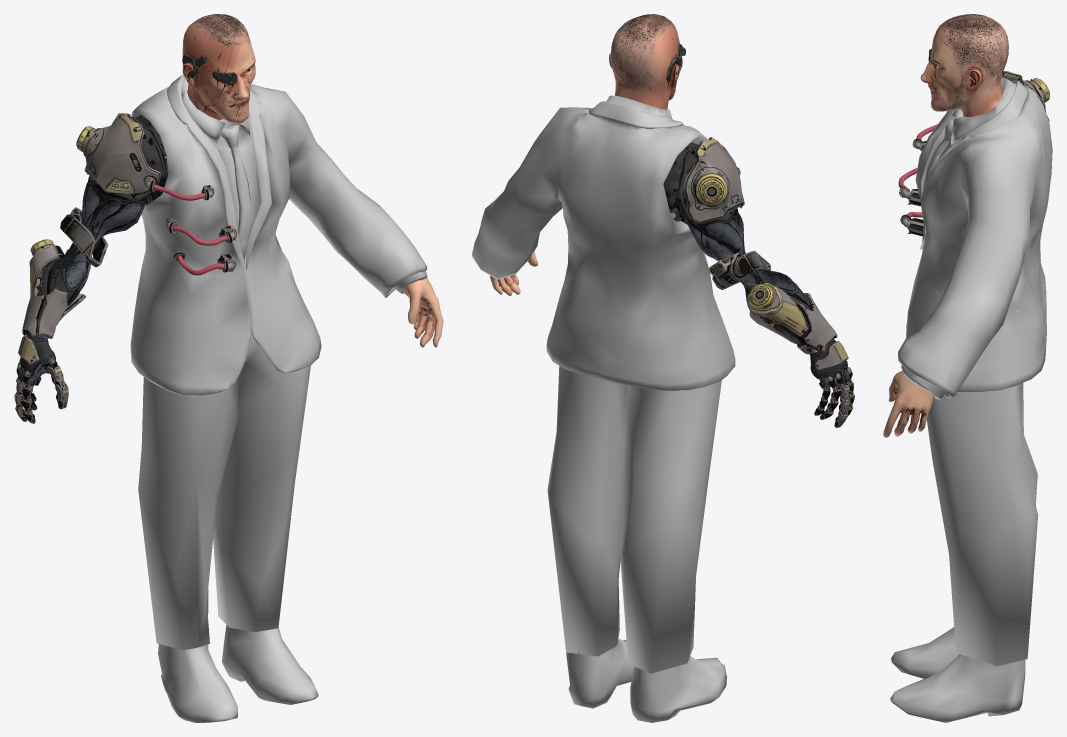
The model's file is Guarda.fbx.
3 views of the same model, side by side, from view 1: azimuth 30°, elevation 25°; view 2: azimuth 150°, elevation 25°; view 3: azimuth 270°, elevation 25° (orthographic).
Parts seen in each view (by area): view 1: Tops, Bottoms, Guarda, Cyborg_mesh6.034, Shoes; view 2: Tops, Bottoms, Guarda, Cyborg_mesh6.034, Shoes; view 3: Tops, Bottoms, Guarda, Shoes, Cyborg_mesh6.034, Cyborg_mesh6.000, Cyborg_mesh6.001.
Boxes of the visible parts, <box> form: Tops: <box>130,74,427,395</box>; Bottoms: <box>138,277,310,650</box>; Guarda: <box>17,14,443,391</box>; Cyborg_mesh6.034: <box>14,113,160,423</box>; Shoes: <box>158,625,318,722</box>; Tops: <box>472,95,735,390</box>; Bottoms: <box>547,288,721,673</box>; Guarda: <box>490,14,851,390</box>; Cyborg_mesh6.034: <box>684,137,854,427</box>; Shoes: <box>566,638,726,722</box>; Tops: <box>898,78,1052,399</box>; Bottoms: <box>926,292,1038,666</box>; Guarda: <box>883,14,1045,437</box>; Shoes: <box>890,627,1025,722</box>; Cyborg_mesh6.034: <box>1001,71,1049,121</box>; Cyborg_mesh6.000: <box>898,168,920,206</box>; Cyborg_mesh6.001: <box>900,212,923,236</box>.
Bounding box in the file's own units: 161 × 268 × 61.16.
